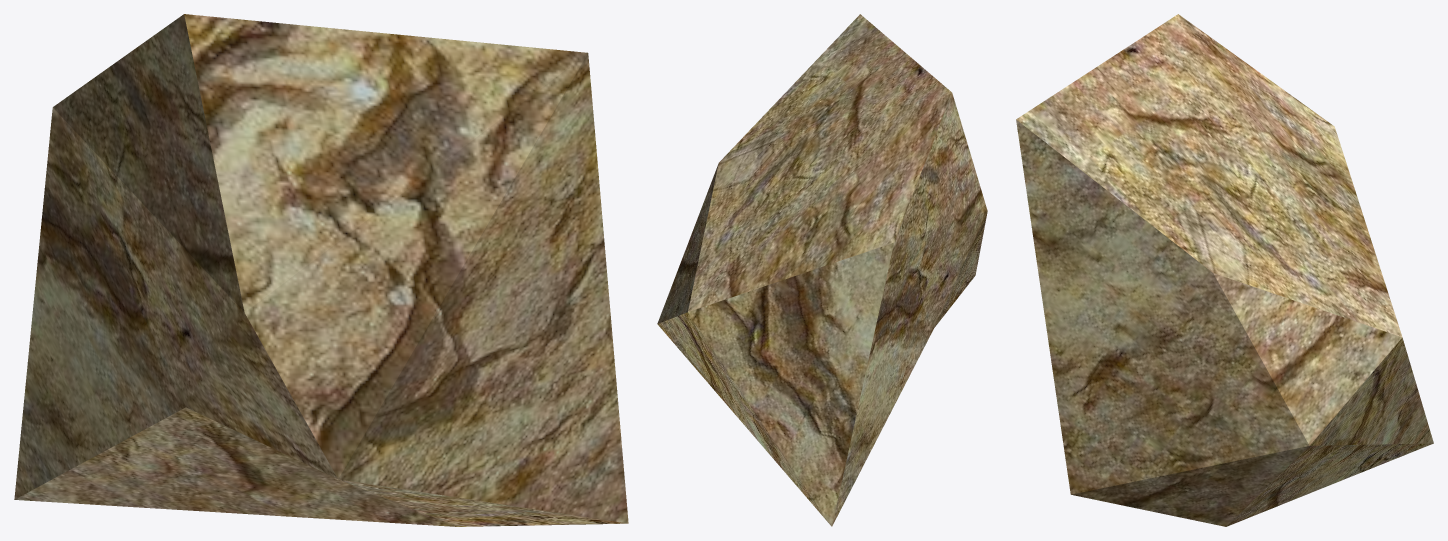
The model's file is rock12.fbx.
The picture shows the model from 3 angles, left to right: view 1: azimuth 30°, elevation 25°; view 2: azimuth 150°, elevation 25°; view 3: azimuth 270°, elevation 25°; orthographic projection. The views are drawn at different scales.
Visible parts, largest first — view 1: Rock12; view 2: Rock12; view 3: Rock12.
Part boxes in pixels (x1=…): Rock12: x1=14, y1=14, x2=628, y2=526; Rock12: x1=657, y1=14, x2=987, y2=526; Rock12: x1=1016, y1=14, x2=1433, y2=526.
Bounding box in the file's own units: 3.13 × 4.33 × 3.88.
